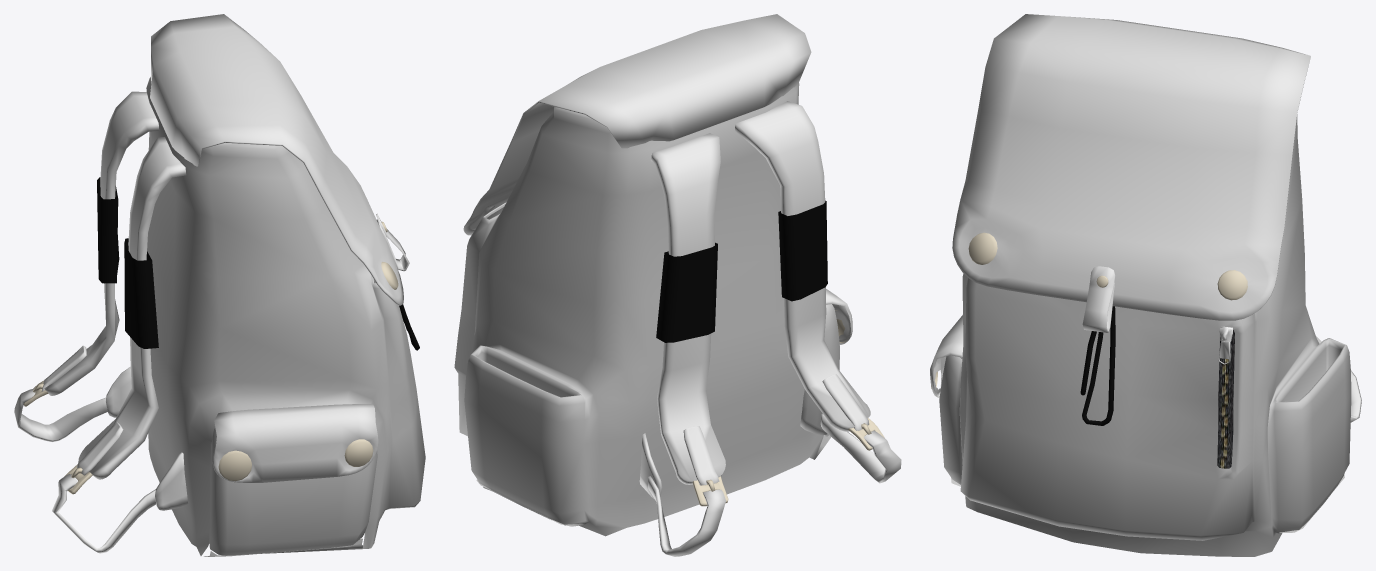
File: BackPackClean.fbx
The picture shows the model from 3 angles, left to right: view 1: azimuth 30°, elevation 25°; view 2: azimuth 150°, elevation 25°; view 3: azimuth 270°, elevation 25°; orthographic projection. The views are drawn at different scales.
Visible parts, largest first — view 1: BackPackClean; view 2: BackPackClean; view 3: BackPackClean.
Boxes of the visible parts, <box> form: BackPackClean: <box>14,14,425,556</box>; BackPackClean: <box>454,14,901,556</box>; BackPackClean: <box>930,14,1361,556</box>.
Size of the model in its own units: 36.91 by 39.32 by 34.78.
